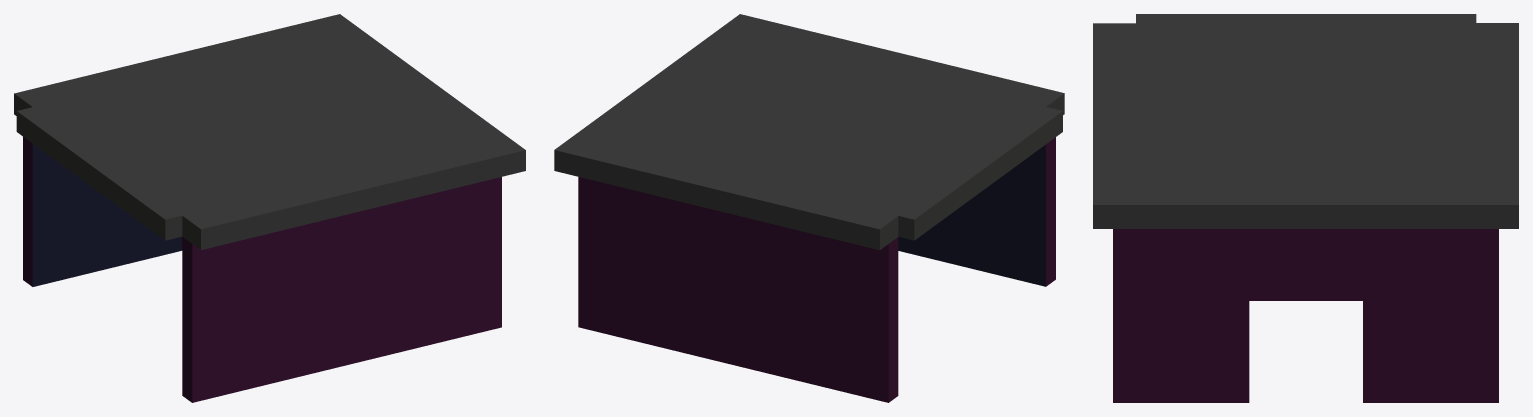
File: Extacionamiento.fbx
3 views of the same model, side by side, from view 1: azimuth 30°, elevation 25°; view 2: azimuth 150°, elevation 25°; view 3: azimuth 270°, elevation 25° (orthographic). The views are drawn at different scales.
Parts seen in each view (by area): view 1: Estacionamiento; view 2: Estacionamiento; view 3: Estacionamiento.
Part boxes in pixels (left/top/right/bottom): Estacionamiento: left=14, top=14, right=525, bottom=402; Estacionamiento: left=554, top=14, right=1064, bottom=402; Estacionamiento: left=1093, top=14, right=1518, bottom=402.
Size of the model in its own units: 1998 by 1006 by 1882.
